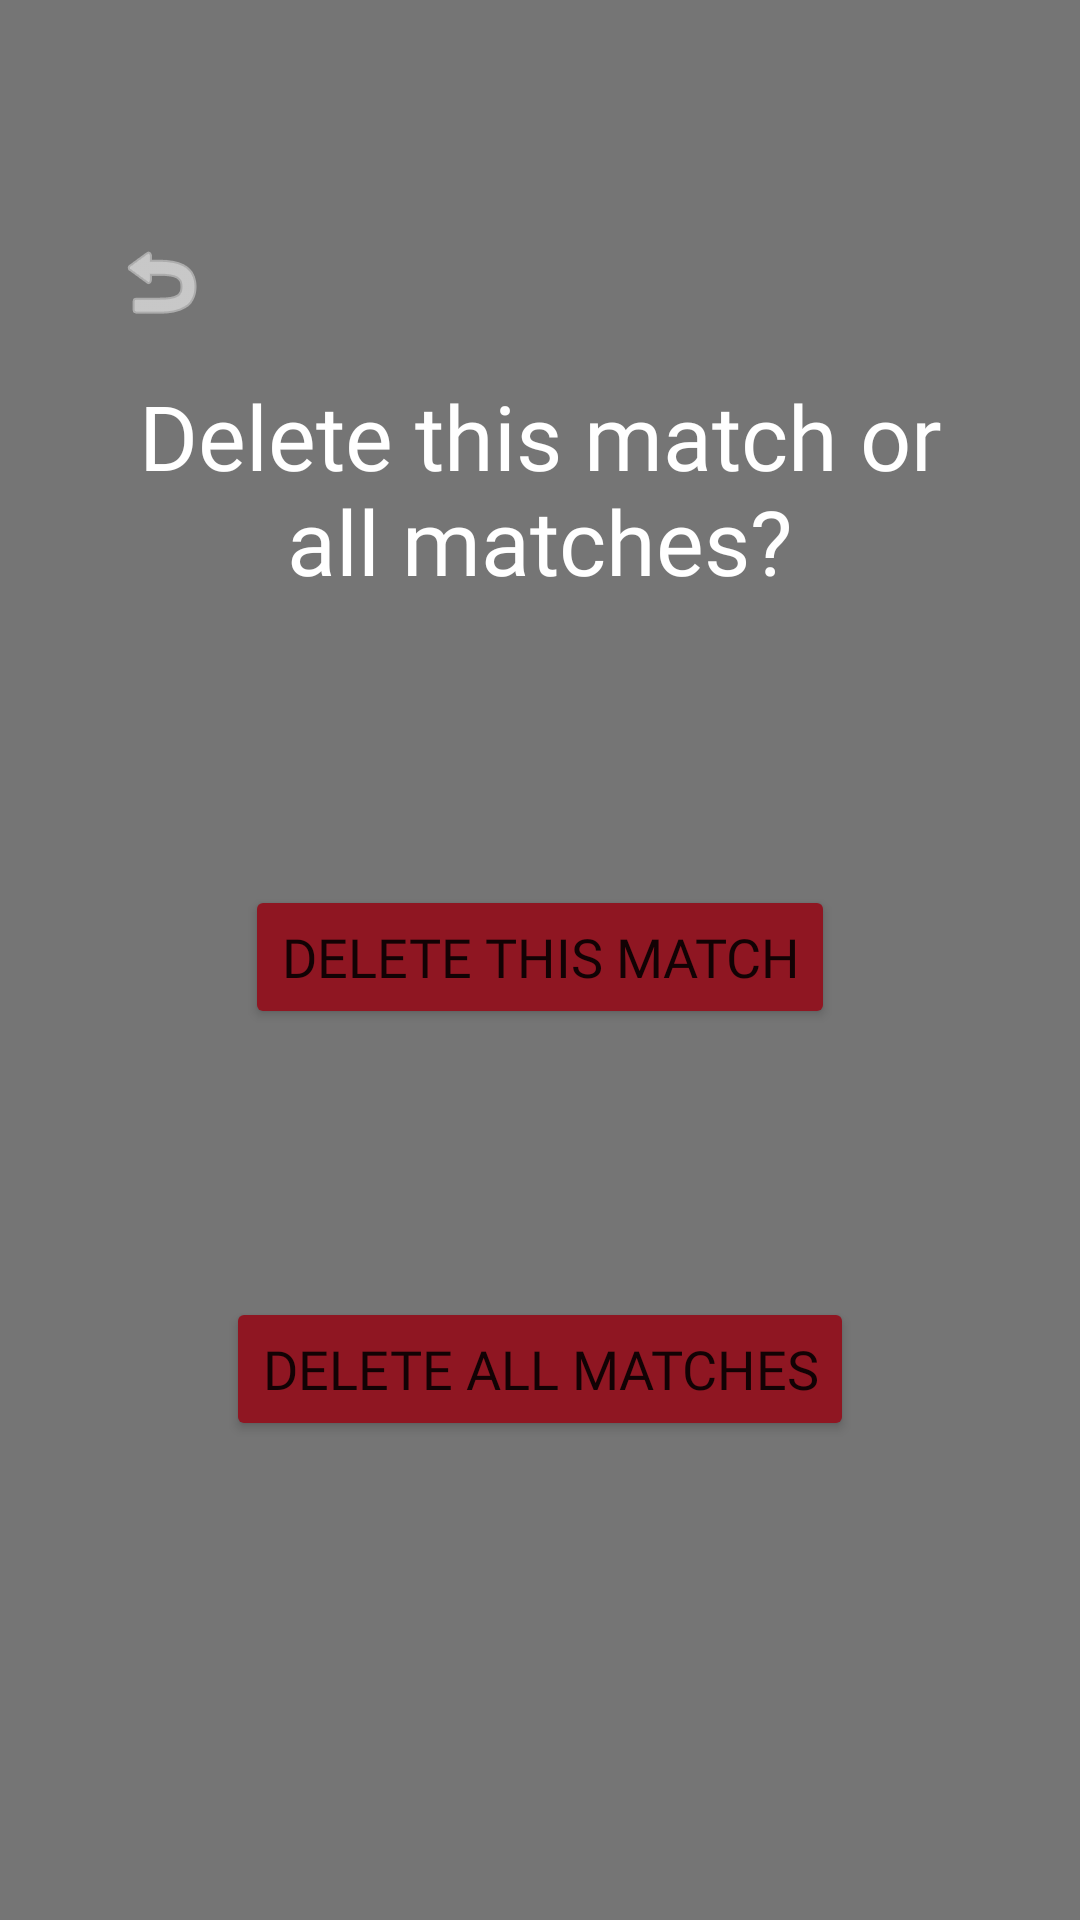

Where icons sit on this 1080×1920 app screen, as (x1, y1, x2, y2):
revert: (128, 252, 197, 314)
